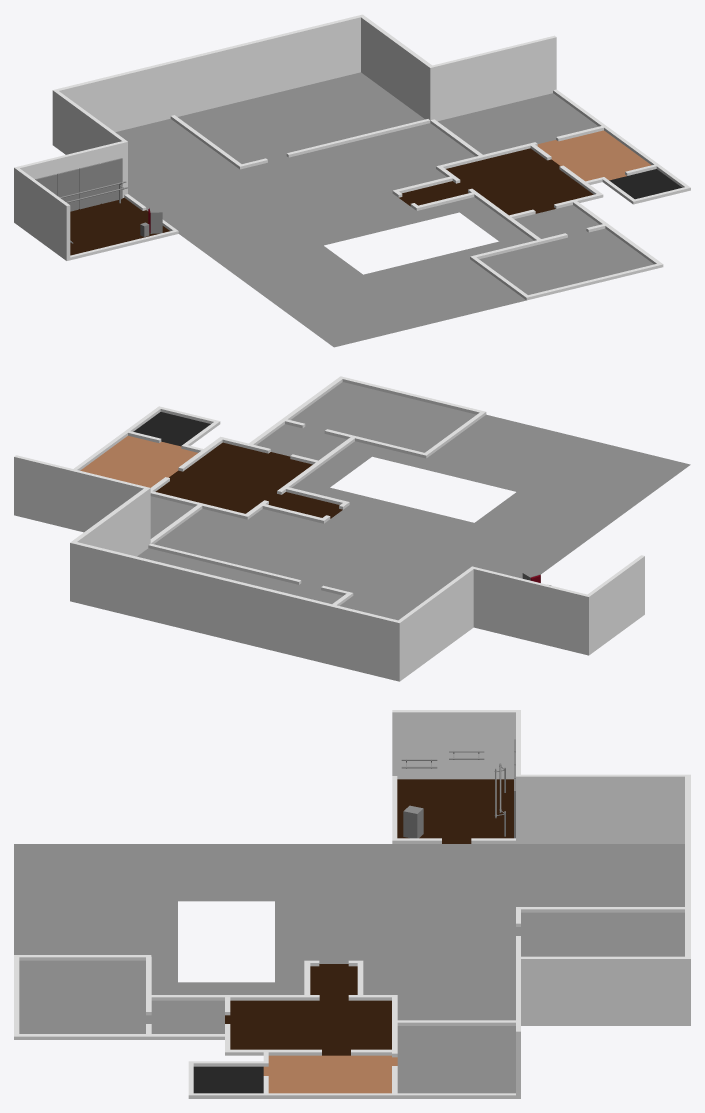
Rendered from Salle_09.FBX.
The picture shows the model from 3 angles, top to bottom: view 1: azimuth 30°, elevation 25°; view 2: azimuth 150°, elevation 25°; view 3: azimuth 270°, elevation 25°; orthographic projection. The views are drawn at different scales.
Parts seen in each view (by area): view 1: Piece_09, Mirroir_Dance; view 2: Piece_09; view 3: Piece_09, Baffle_003.
Boxes of the visible parts, bbox=[...] form: Piece_09: bbox=[14, 14, 690, 347]; Mirroir_Dance: bbox=[35, 158, 122, 211]; Piece_09: bbox=[14, 376, 690, 681]; Piece_09: bbox=[14, 710, 690, 1098]; Baffle_003: bbox=[403, 805, 423, 838].
Size of the model in its own units: 3085 by 300 by 2744.
